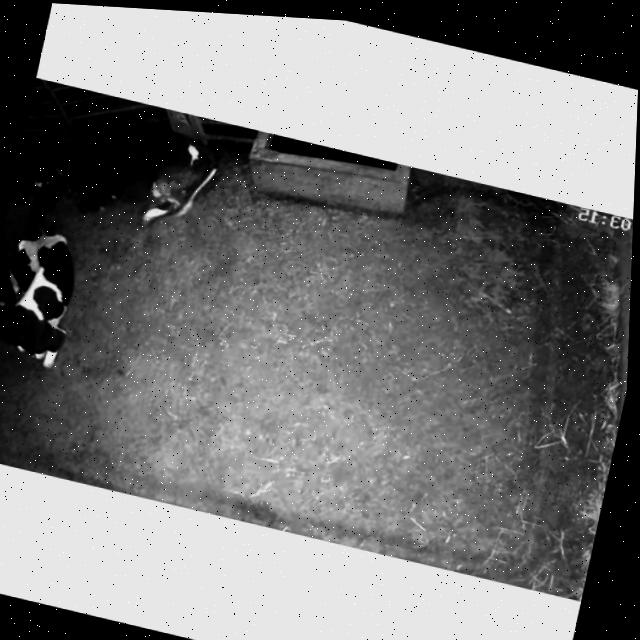lay: (5, 86, 232, 264), (0, 210, 102, 382)
